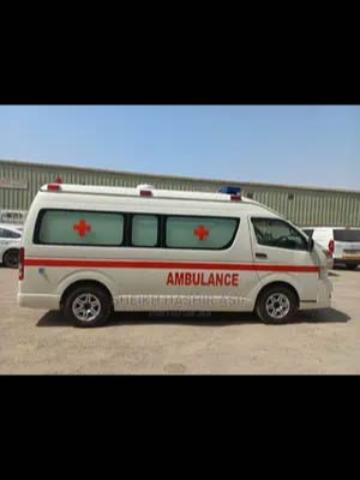van: (15, 179, 330, 327)
